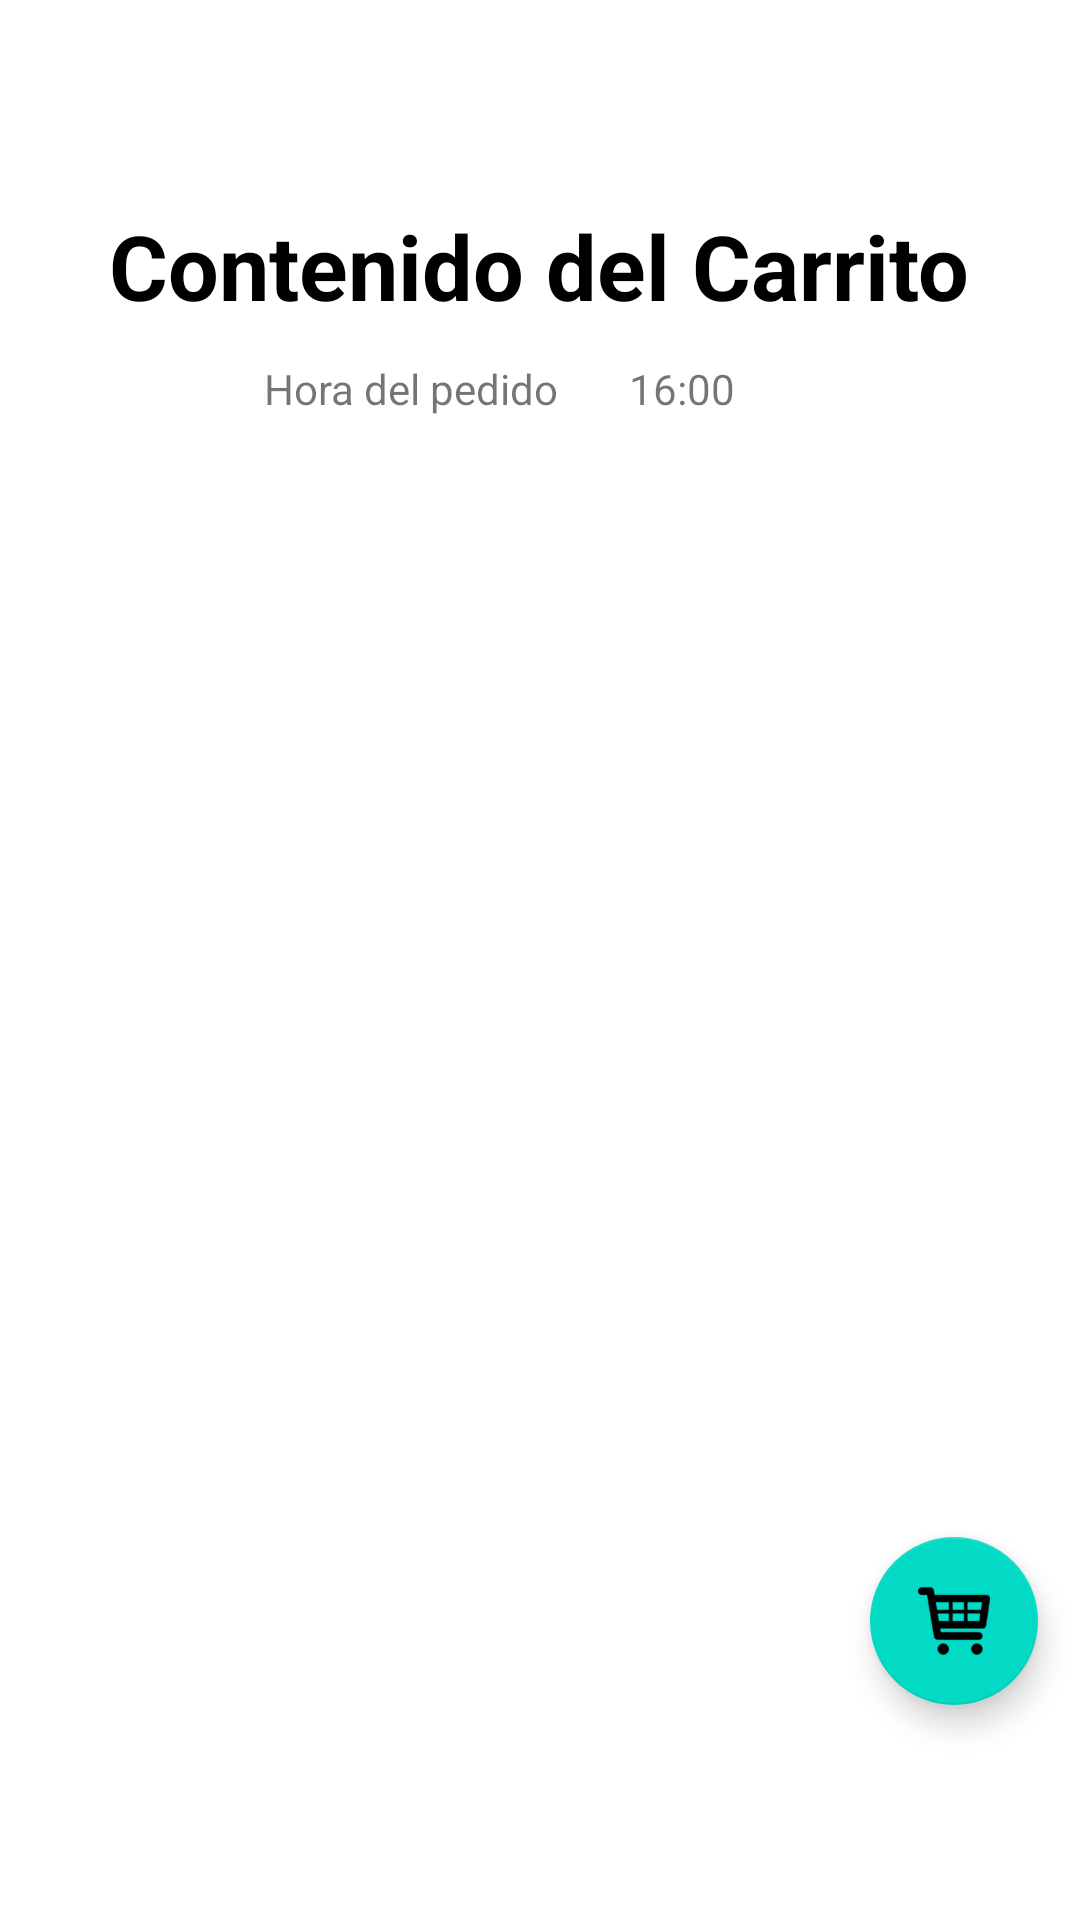

Icons on this 1080x1920 Android screen, each with its box as BBox(x1, y1, x2, y2):
carrito: BBox(870, 1537, 1038, 1705)
